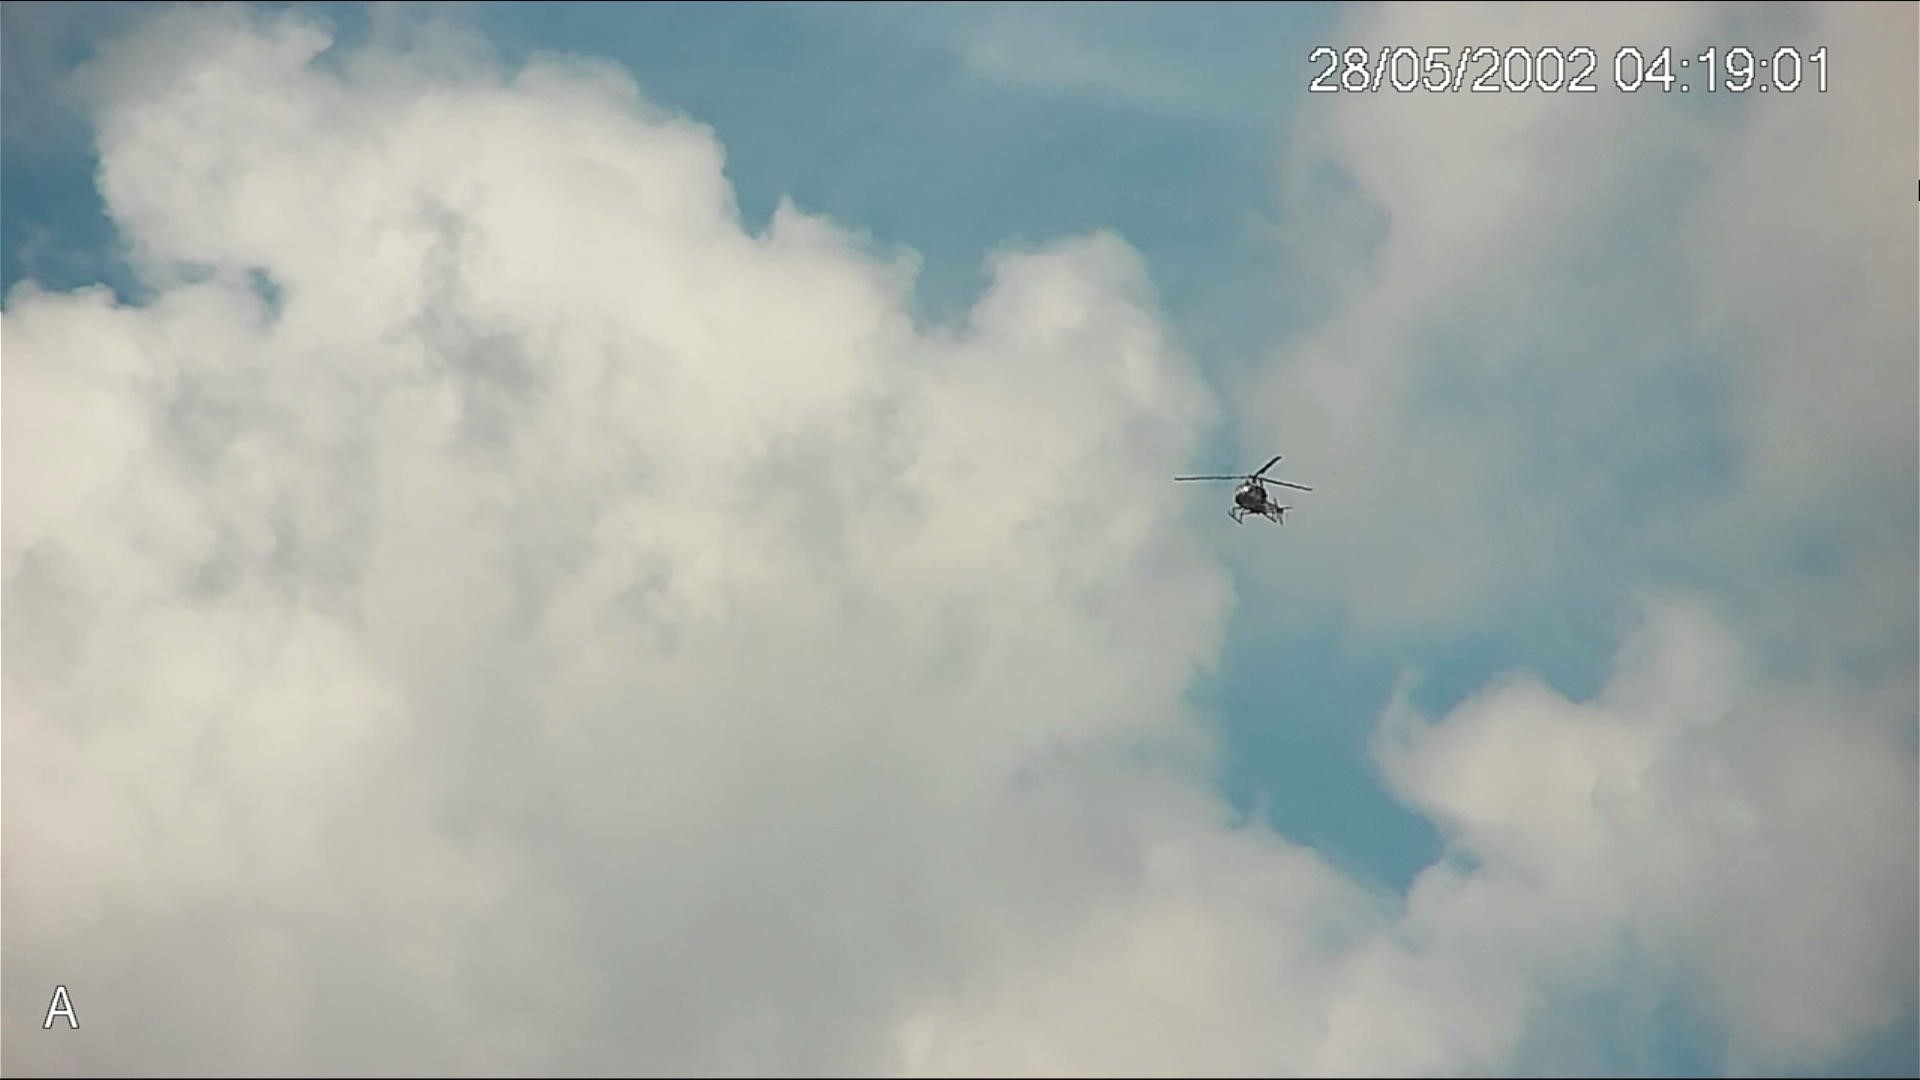SU_30: (1211, 464, 1296, 530)
